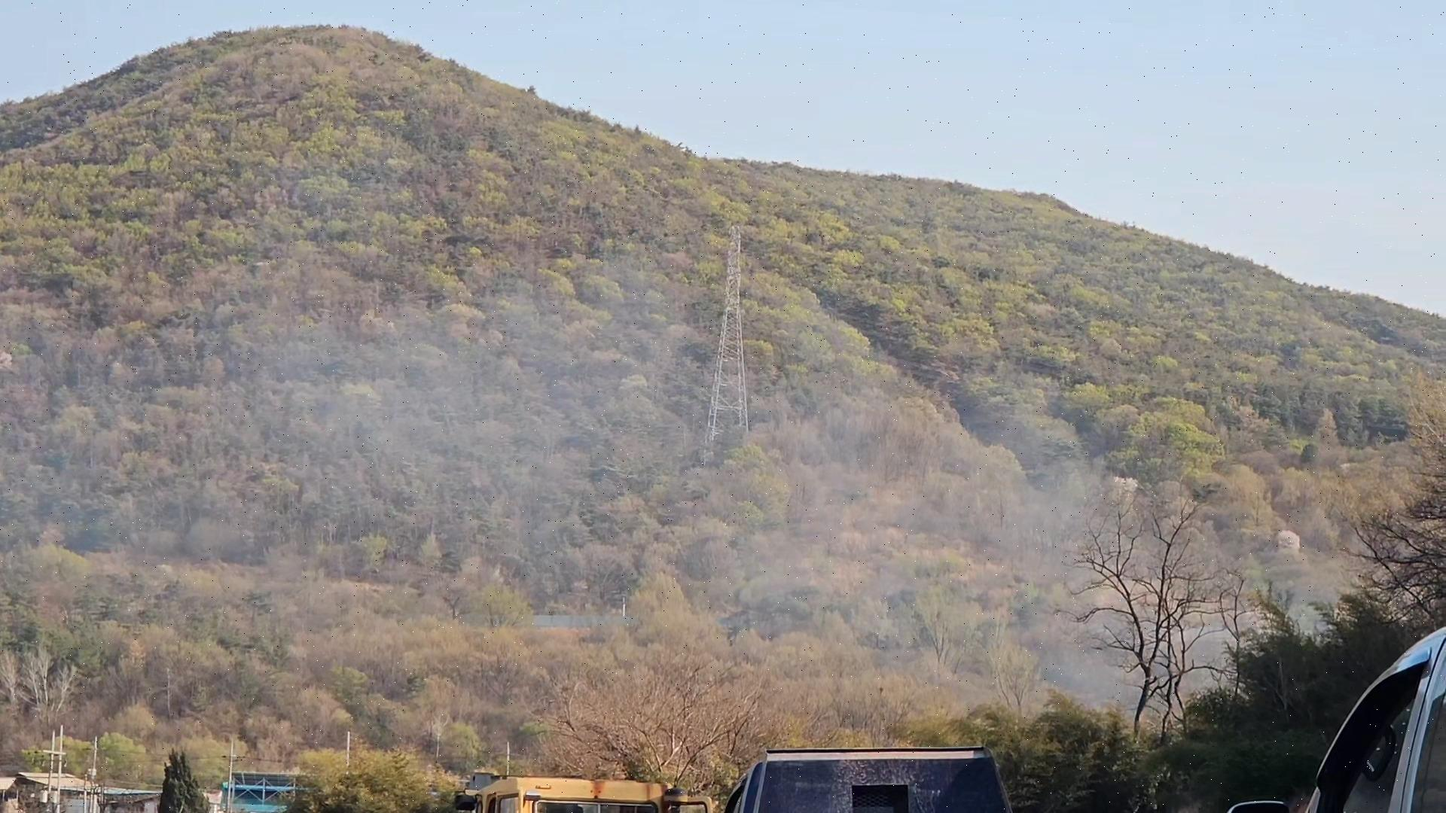smoke: (319, 303, 1324, 717)
